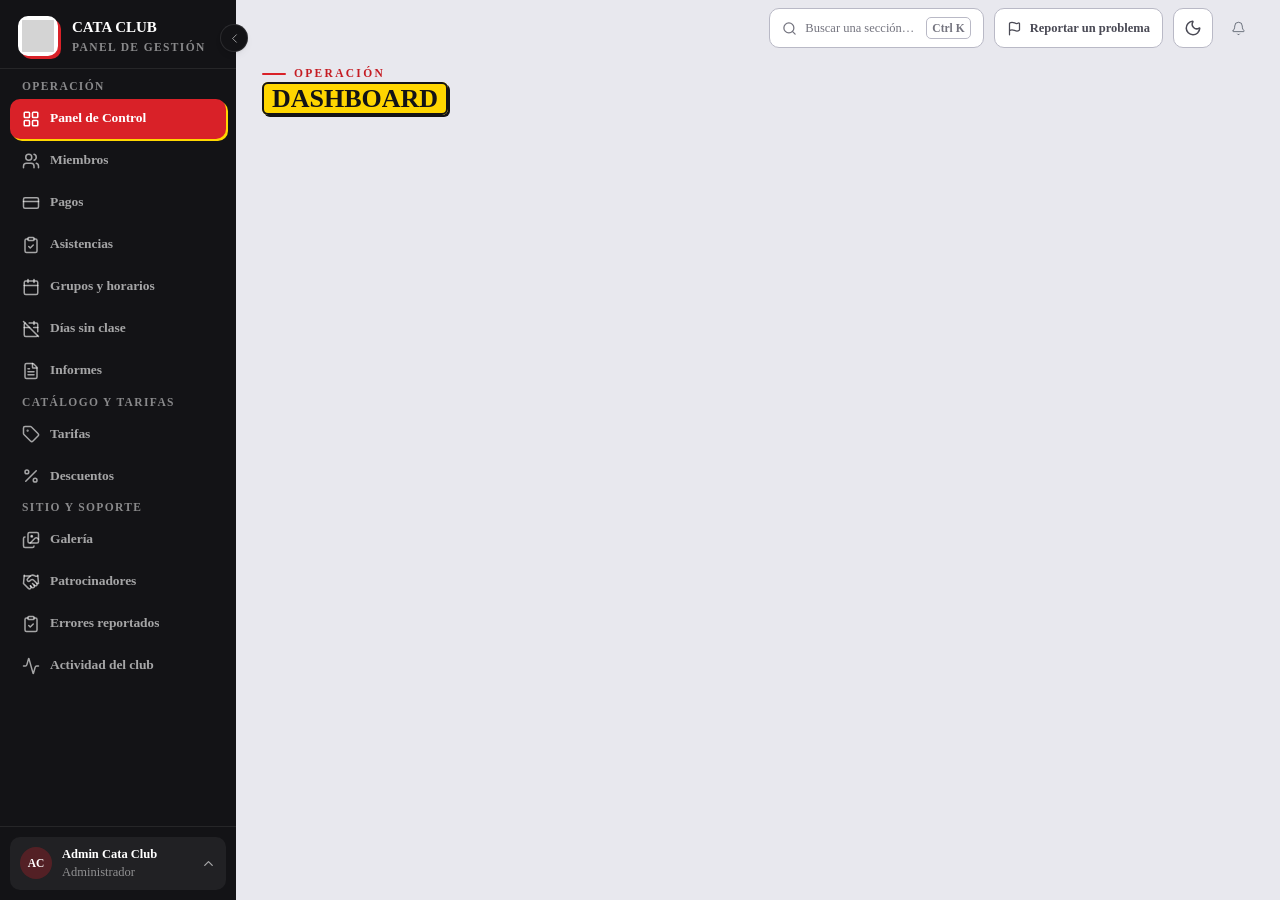
AppShell › exposes the user card as a menu button: aria-expanded, Escape closes and returns focus
Click the button with aria-label "Menú de cuenta de": {"x": 118, "y": 863} [10,836,226,890]
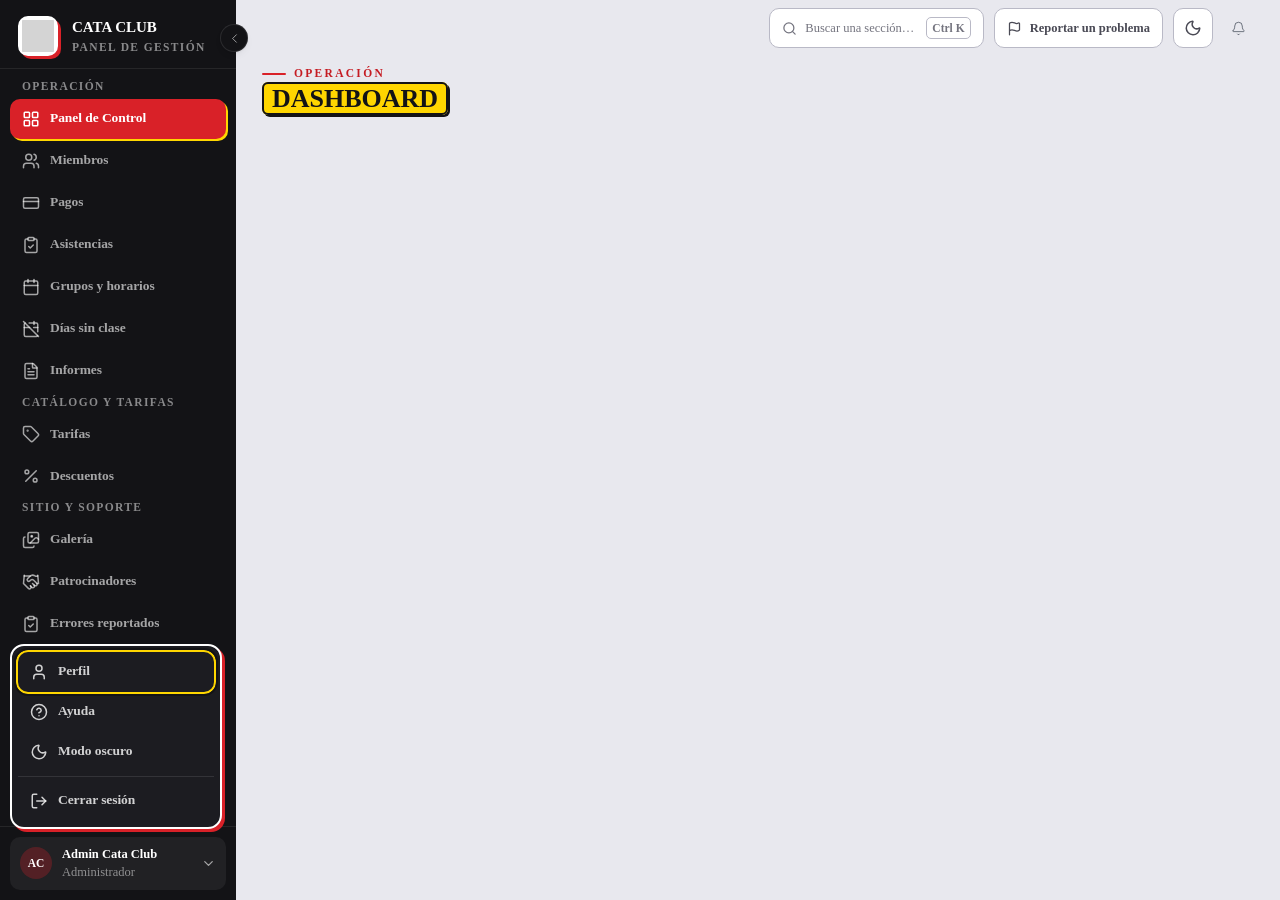
Check: the button with aria-label "Menú de cuenta de" is expanded, box [10,836,226,890]
Press Escape
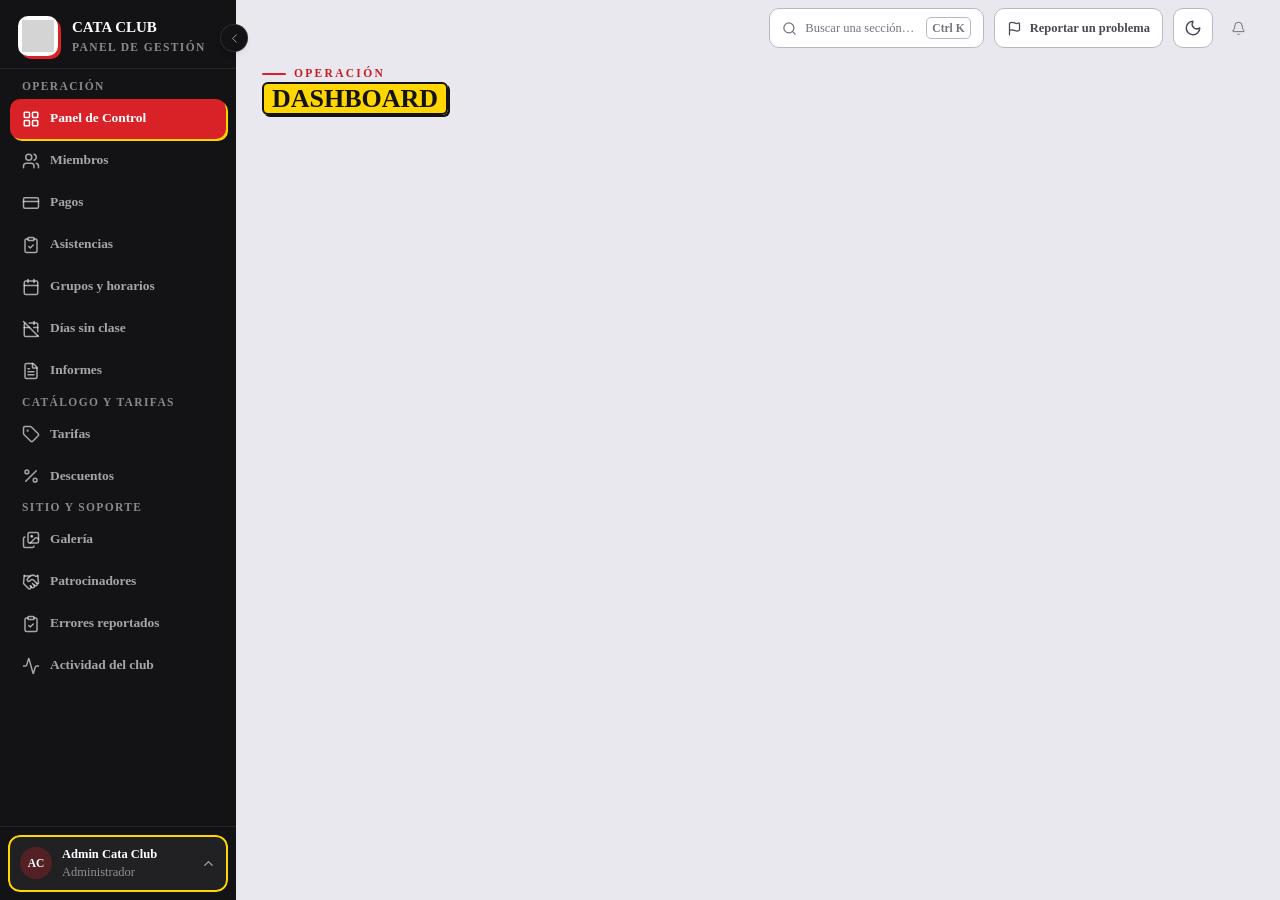
Check: the button with aria-label "Menú de cuenta de" is collapsed, box [10,836,226,890]
